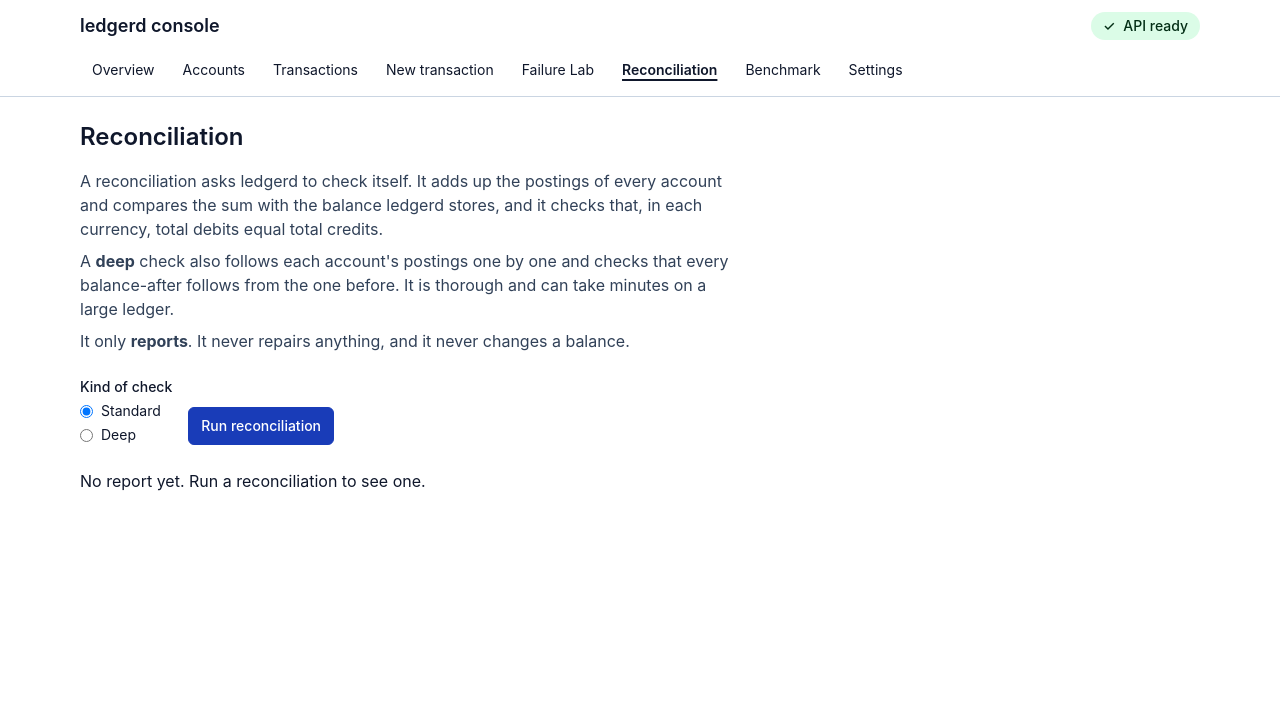
Scenario: the report (R10.2, R10.3) › lists debits and credits per currency, and says when they do not balance
expect the heading "Reconciliation" is shown: met, box [80,121,244,153]
Click the button "Run reconciliation" at point(261, 426), box [188,407,334,445]
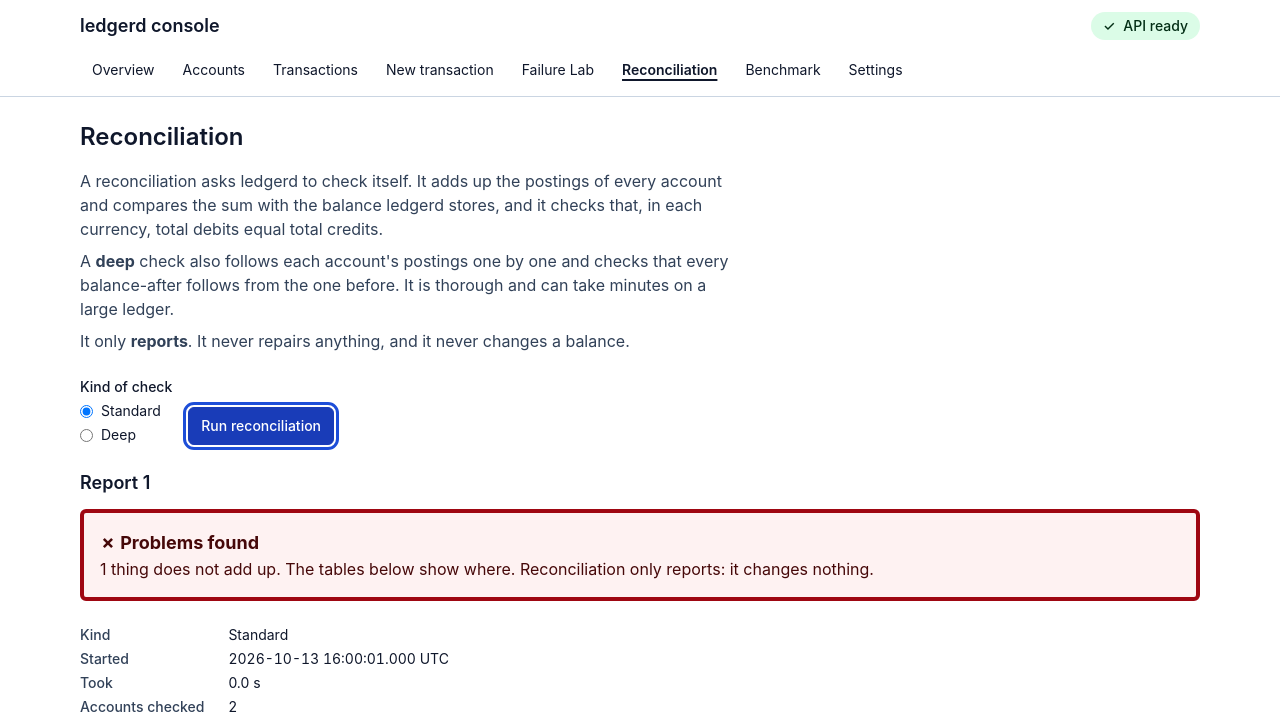
expect the message shows "Problems found": met, box [120,532,259,553]
